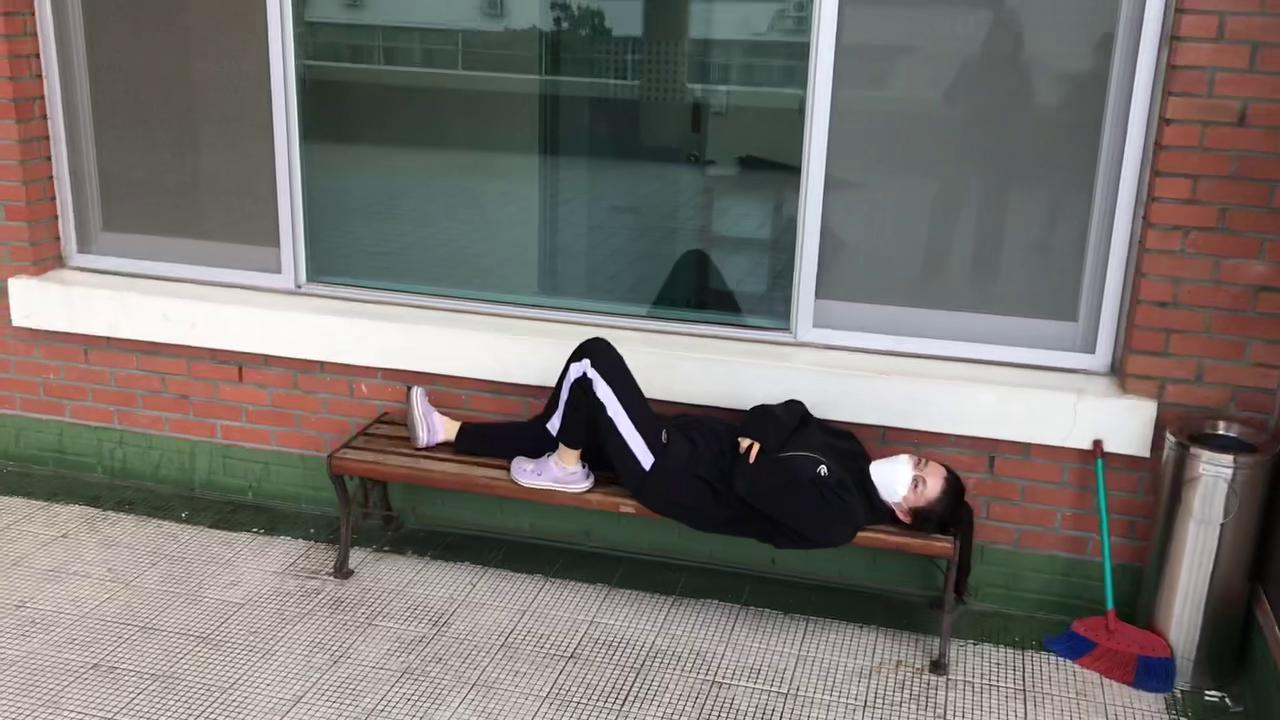sleep: (409, 331, 966, 538)
